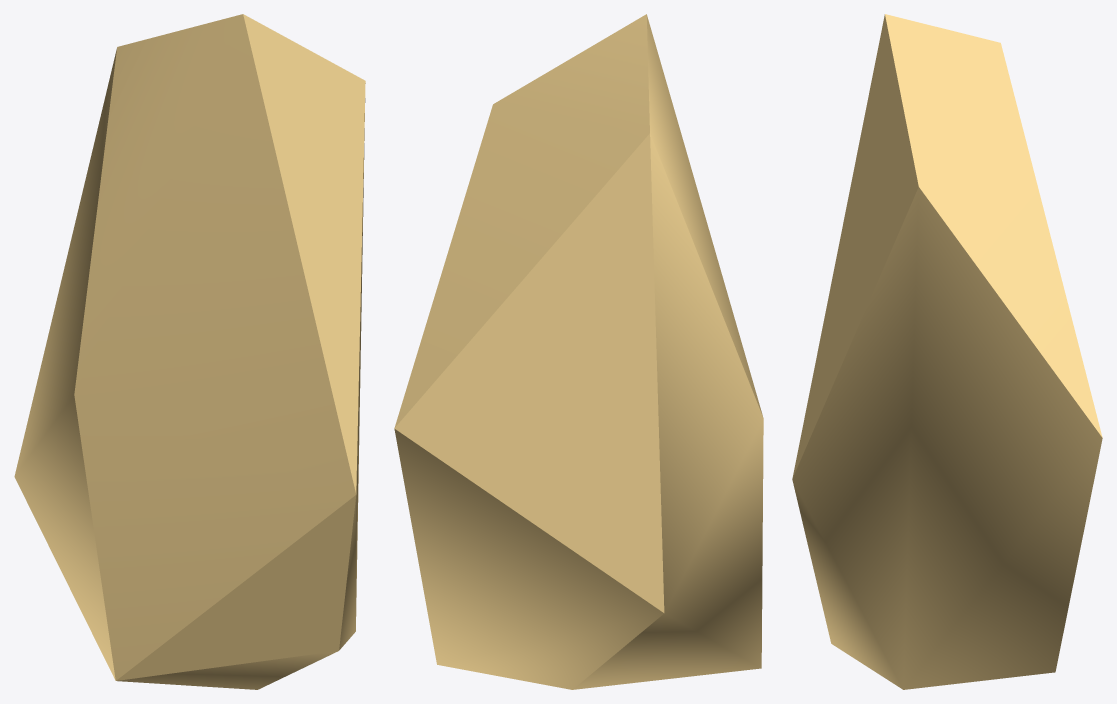
File: Rock(big).FBX
3 views of the same model, side by side, from view 1: azimuth 30°, elevation 25°; view 2: azimuth 150°, elevation 25°; view 3: azimuth 270°, elevation 25° (orthographic). The views are drawn at different scales.
Visible parts, largest first — view 1: Sphere152; view 2: Sphere152; view 3: Sphere152.
Boxes of the visible parts, x1,y1,x2,y2 form: Sphere152: [14, 14, 365, 689]; Sphere152: [394, 14, 763, 689]; Sphere152: [792, 14, 1102, 689].
Size of the model in its own units: 10.18 by 22.19 by 10.
